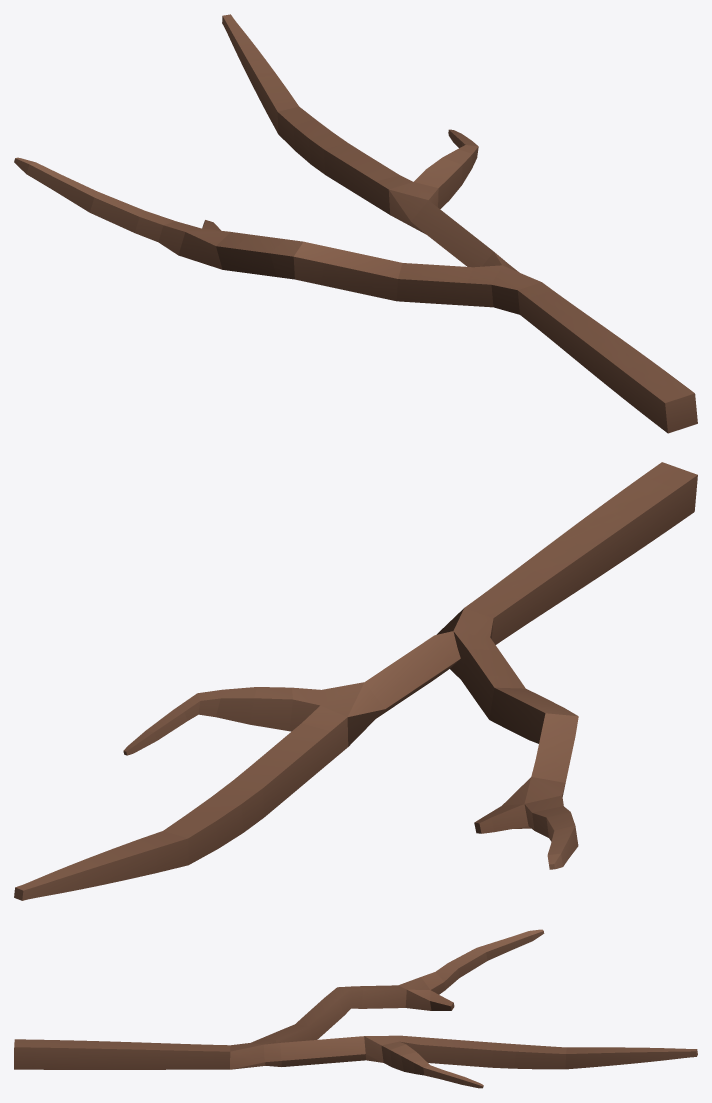
The model's file is patyk1.fbx.
The picture shows the model from 3 angles, top to bottom: view 1: azimuth 30°, elevation 25°; view 2: azimuth 150°, elevation 25°; view 3: azimuth 270°, elevation 25°; orthographic projection. The views are drawn at different scales.
Parts seen in each view (by area): view 1: patyk1; view 2: patyk1; view 3: patyk1.
Part boxes in pixels (left/top/right/bottom): patyk1: left=14, top=14, right=697, bottom=433; patyk1: left=14, top=462, right=697, bottom=900; patyk1: left=14, top=929, right=697, bottom=1088.
Bounding box in the file's own units: 147 × 22.57 × 321.
